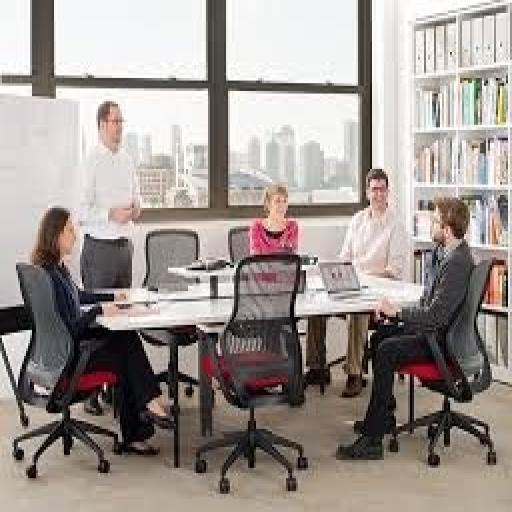sitting: (334, 192, 478, 463), (28, 203, 176, 457)
